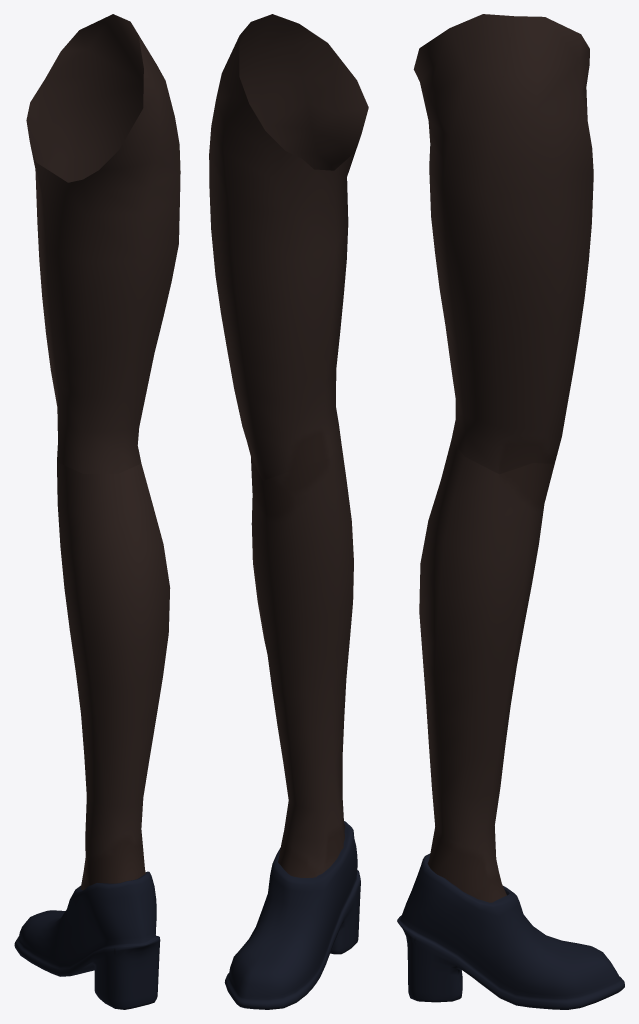
File: MusloDer.obj
The picture shows the model from 3 angles, left to right: view 1: azimuth 30°, elevation 25°; view 2: azimuth 150°, elevation 25°; view 3: azimuth 270°, elevation 25°; orthographic projection. The views are drawn at different scales.
Visible parts, largest first — view 1: body_lp.003; view 2: body_lp.003; view 3: body_lp.003.
Part boxes in pixels (x1=…): body_lp.003: x1=14, y1=14, x2=180, y2=1009; body_lp.003: x1=209, y1=14, x2=368, y2=1009; body_lp.003: x1=397, y1=14, x2=624, y2=1009.
Size of the model in its own units: 0.3225 by 2.35 by 0.4873.
Materials: 1 (1 with a texture image).
